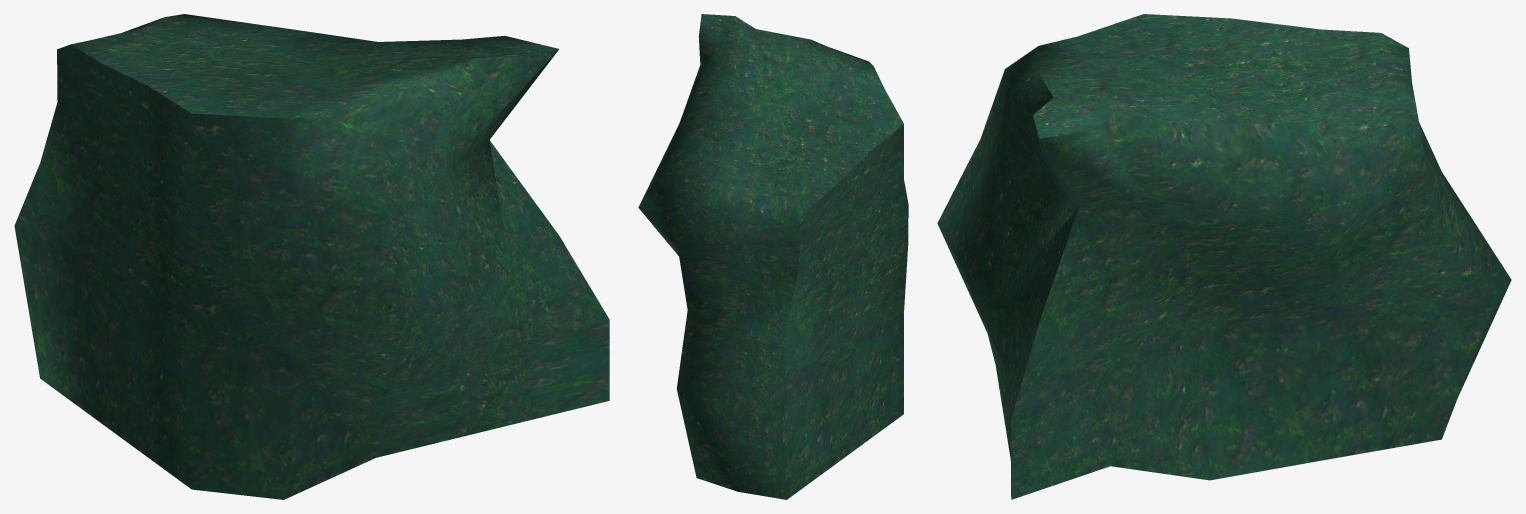
Rendered from MIRKWOOD_MIRK_PLAYSURFACE11.fbx.
3 views of the same model, side by side, from view 1: azimuth 30°, elevation 25°; view 2: azimuth 150°, elevation 25°; view 3: azimuth 270°, elevation 25° (orthographic). The views are drawn at different scales.
Parts seen in each view (by area): view 1: MIRKWOOD_MIRK_PLAYSURFACE11; view 2: MIRKWOOD_MIRK_PLAYSURFACE11; view 3: MIRKWOOD_MIRK_PLAYSURFACE11.
Boxes of the visible parts, x1,y1,x2,y2 form: MIRKWOOD_MIRK_PLAYSURFACE11: (14, 14, 609, 499); MIRKWOOD_MIRK_PLAYSURFACE11: (638, 14, 908, 499); MIRKWOOD_MIRK_PLAYSURFACE11: (937, 14, 1511, 499).
Size of the model in its own units: 45137 by 49961 by 64999.
Materials: 1 (1 with a texture image).
